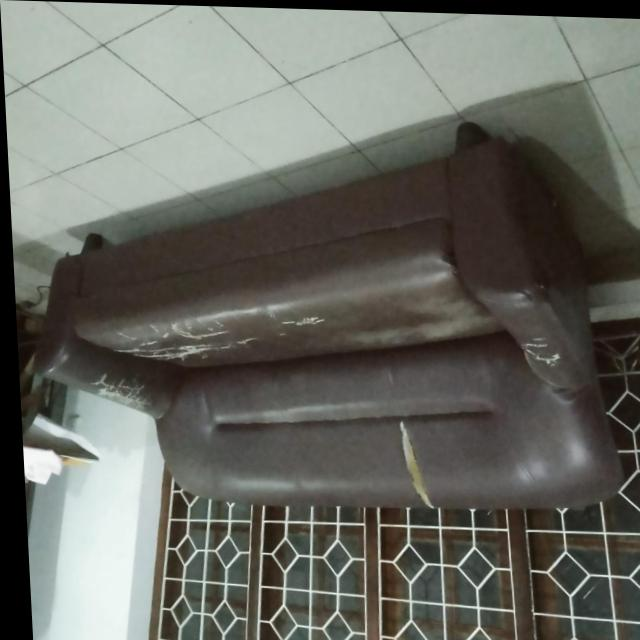Sofa: (18, 109, 621, 511)
